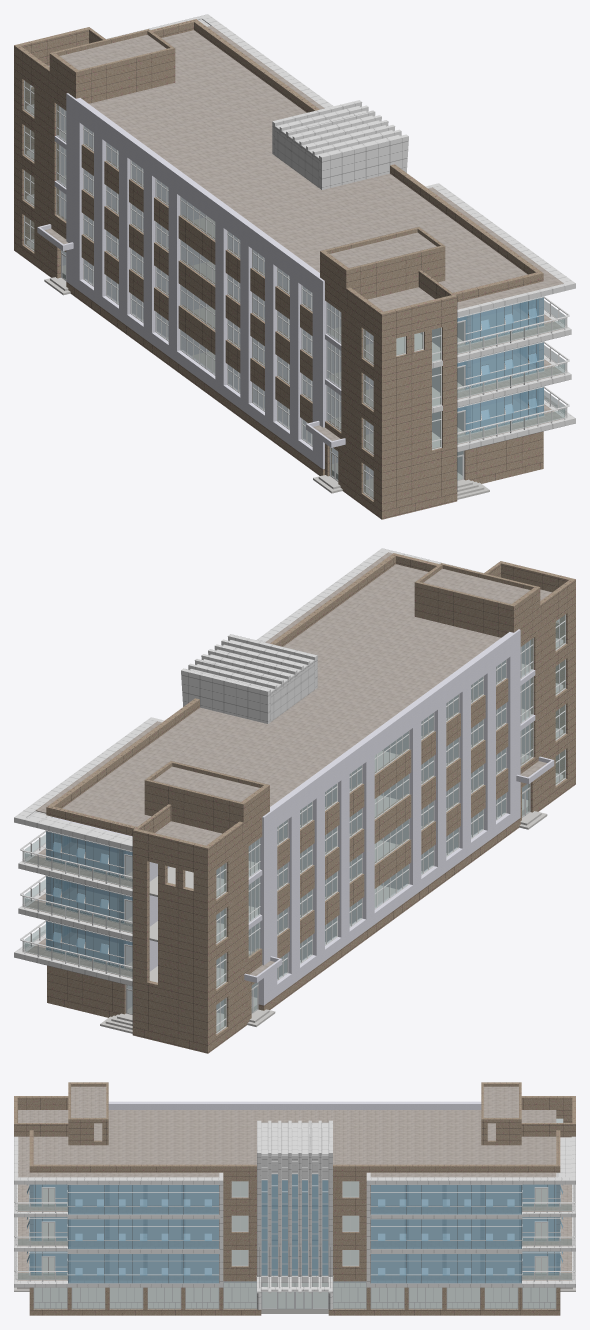
Rendered from building02.glb.
3 views of the same model, one above another, from view 1: azimuth 30°, elevation 25°; view 2: azimuth 150°, elevation 25°; view 3: azimuth 270°, elevation 25° (orthographic). The views are drawn at different scales.
Parts seen in each view (by area): view 1: skfb_offset; view 2: skfb_offset; view 3: skfb_offset.
Boxes of the visible parts, box(x1,y1,x2,y2) form: skfb_offset: box(14, 14, 575, 519); skfb_offset: box(14, 548, 575, 1053); skfb_offset: box(14, 1082, 575, 1315).
Size of the model in its own units: 19170 by 17870 by 53360.
Materials: 12 (5 with a texture image).
